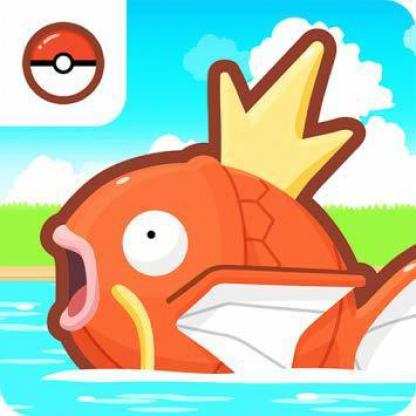Magikarp: (1, 134, 416, 387)
